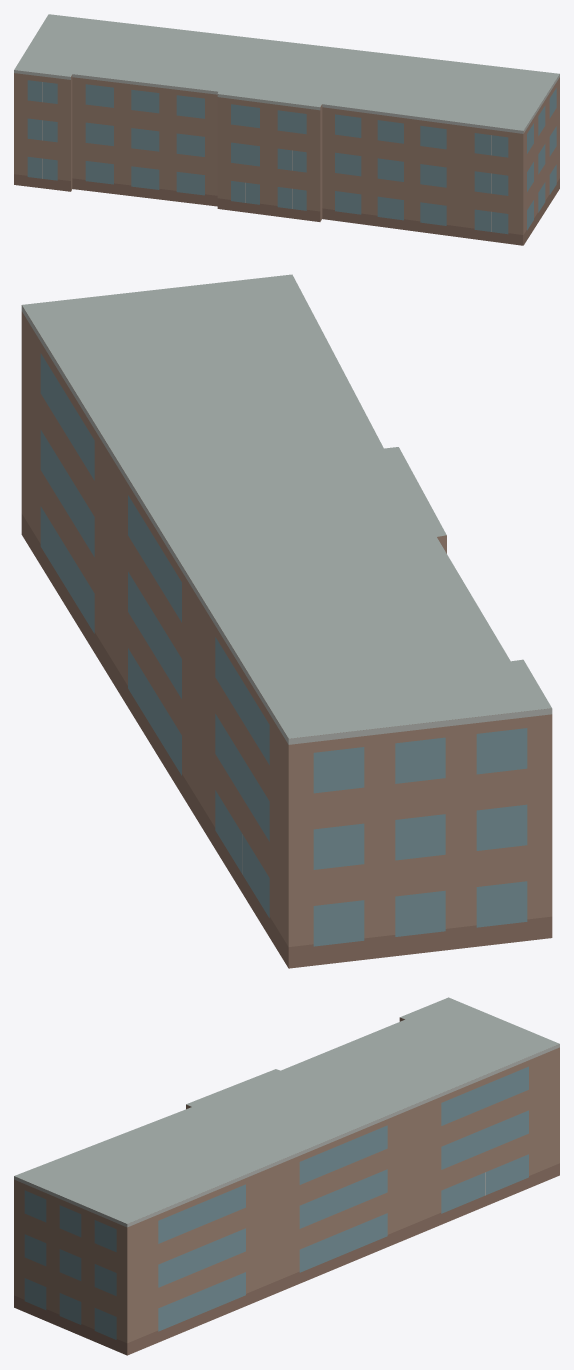
Rendered from survey-upis-32566924.glb.
3 renders of one model, top to bottom at view 1: azimuth 30°, elevation 25°; view 2: azimuth 150°, elevation 25°; view 3: azimuth 270°, elevation 25°, orthographic. The views are drawn at different scales.
Parts seen in each view (by area): view 1: survey-upis-32566924.tmp; view 2: survey-upis-32566924.tmp; view 3: survey-upis-32566924.tmp.
Boxes of the visible parts, x1=… form: survey-upis-32566924.tmp: x1=14, y1=14, x2=559, y2=245; survey-upis-32566924.tmp: x1=21, y1=274, x2=552, y2=968; survey-upis-32566924.tmp: x1=14, y1=997, x2=559, y2=1355.
Bounding box in the file's own units: 33.81 × 9.15 × 34.42.
